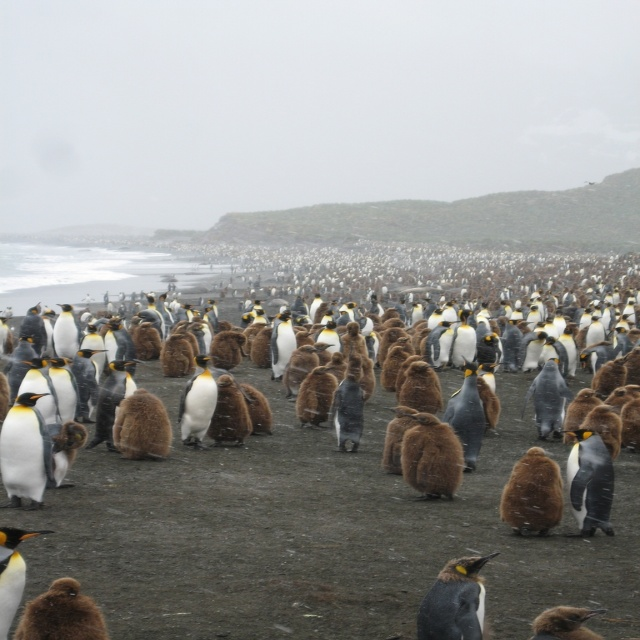Penguin: (181, 236, 639, 301), (414, 550, 506, 639), (560, 420, 618, 541), (0, 521, 53, 640), (6, 577, 104, 640), (0, 394, 53, 510), (405, 408, 469, 501), (503, 441, 560, 541), (175, 354, 223, 448), (114, 388, 177, 456), (14, 357, 62, 439), (378, 402, 429, 477), (284, 359, 340, 422), (528, 356, 570, 440), (447, 365, 483, 455), (47, 418, 87, 495), (40, 359, 84, 428), (261, 310, 303, 382), (10, 304, 60, 364), (209, 373, 246, 450), (103, 356, 133, 446), (334, 372, 366, 456), (564, 381, 604, 438), (239, 382, 277, 438), (77, 351, 109, 411), (284, 345, 321, 396), (405, 365, 439, 420), (585, 403, 620, 455), (574, 346, 612, 388), (346, 349, 378, 398), (378, 331, 417, 371), (383, 338, 410, 390), (137, 312, 172, 352), (52, 302, 79, 351), (133, 321, 166, 361), (447, 319, 471, 373), (184, 318, 214, 361), (174, 322, 203, 366), (341, 324, 371, 366), (103, 316, 131, 360), (311, 324, 343, 361), (502, 321, 528, 366), (232, 310, 267, 342), (542, 340, 573, 376), (77, 325, 107, 361), (617, 394, 639, 441), (300, 290, 331, 323), (471, 328, 494, 372), (244, 321, 267, 363), (168, 337, 193, 373), (401, 358, 426, 394), (430, 330, 455, 365), (478, 381, 494, 429), (598, 362, 622, 394), (338, 299, 363, 329), (614, 311, 636, 344), (473, 368, 496, 398), (592, 340, 611, 372), (602, 393, 626, 418), (579, 325, 599, 352), (622, 354, 636, 390), (423, 309, 443, 332), (524, 302, 541, 328), (367, 301, 389, 321), (542, 289, 558, 316), (610, 332, 626, 359), (202, 304, 219, 329), (486, 307, 506, 325), (471, 302, 489, 321), (538, 316, 551, 342), (554, 298, 569, 319), (576, 309, 589, 332), (407, 308, 429, 321), (141, 291, 159, 306), (442, 302, 457, 320), (604, 307, 611, 337), (510, 309, 522, 326), (169, 299, 185, 310), (535, 291, 544, 304), (119, 290, 127, 303), (244, 299, 252, 312), (102, 292, 111, 303)
